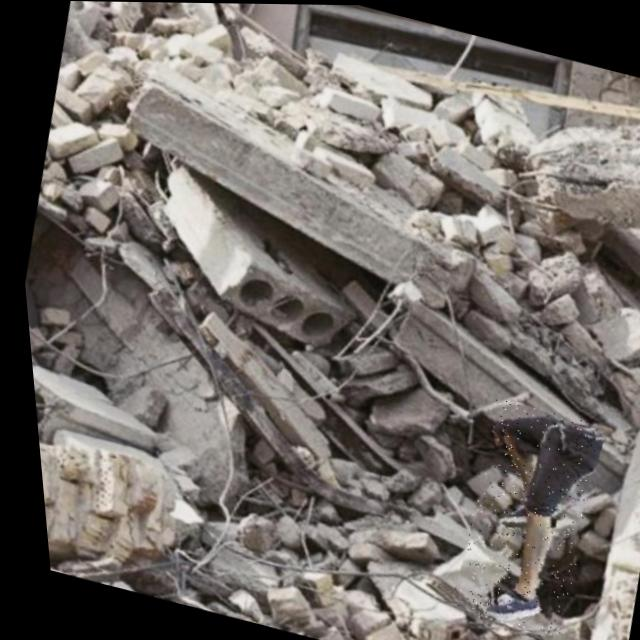Person in Rubble: (430, 395, 607, 639)
